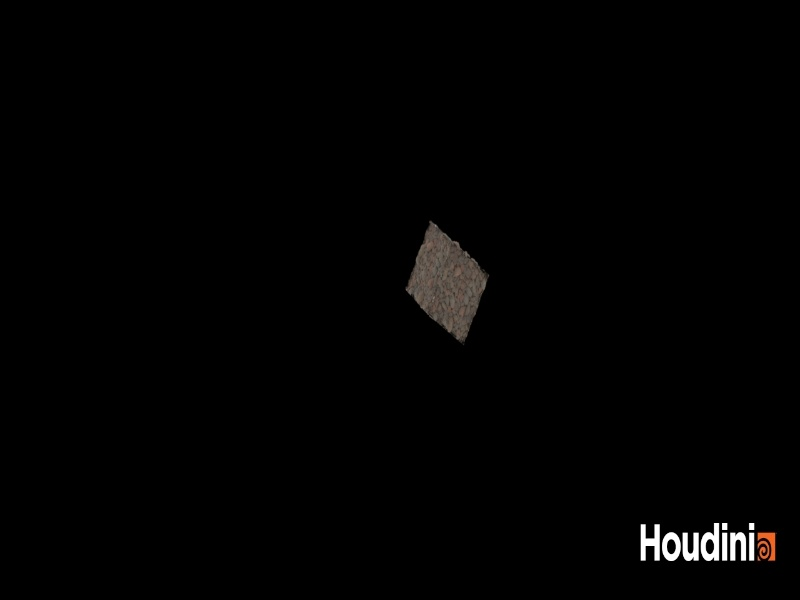waste: (391, 206, 505, 352)
